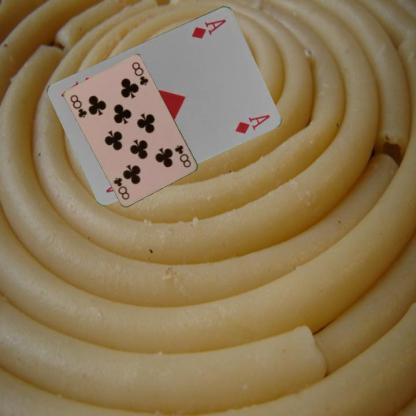8c: (172, 142, 192, 169), (68, 92, 88, 119)
Ad: (188, 16, 228, 40)
